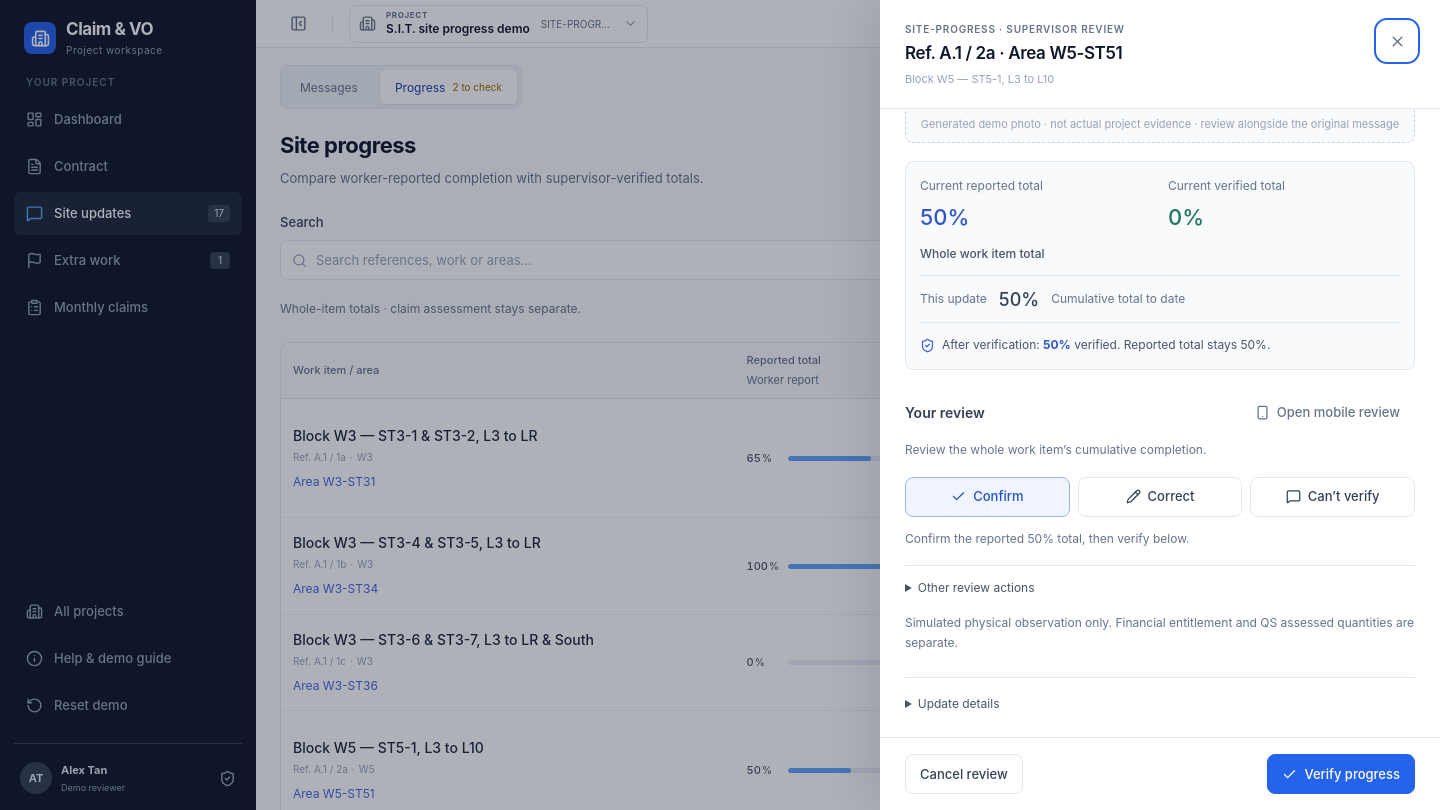
Test: site progress separates worker reports from supervisor verification › requires a reason for an explicit correction and resets the hidden total when returning to Confirm
(page scrolled)
Click the button "Correct": (1160, 496) top-left (1078, 476), bottom-right (1242, 516)
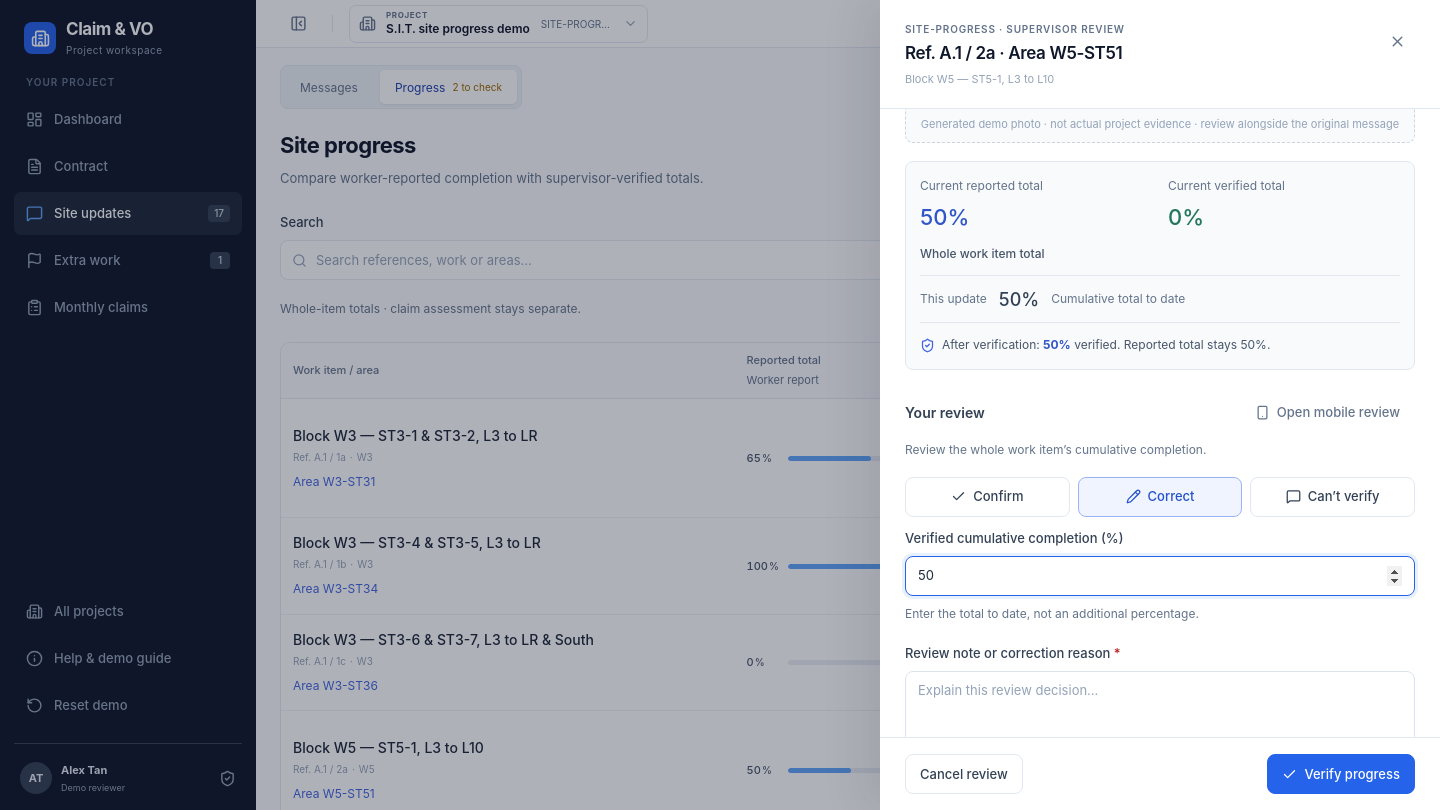
Click the button "Verify progress": (1341, 774) top-left (1267, 754), bottom-right (1415, 794)
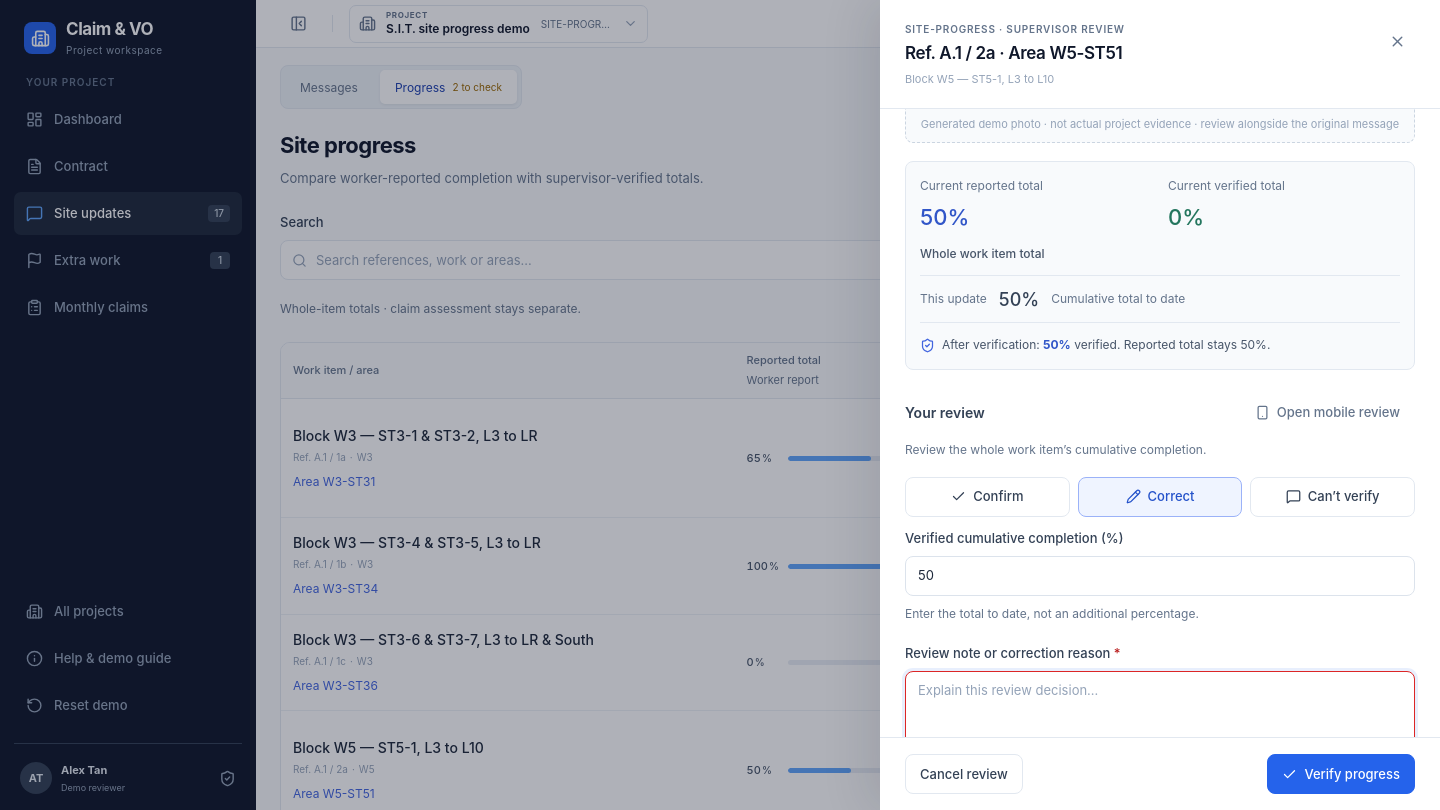
Replace the text in the number field labelled "Verified cumulative completion (%)" with "35": (1160, 576) top-left (905, 556), bottom-right (1415, 596)
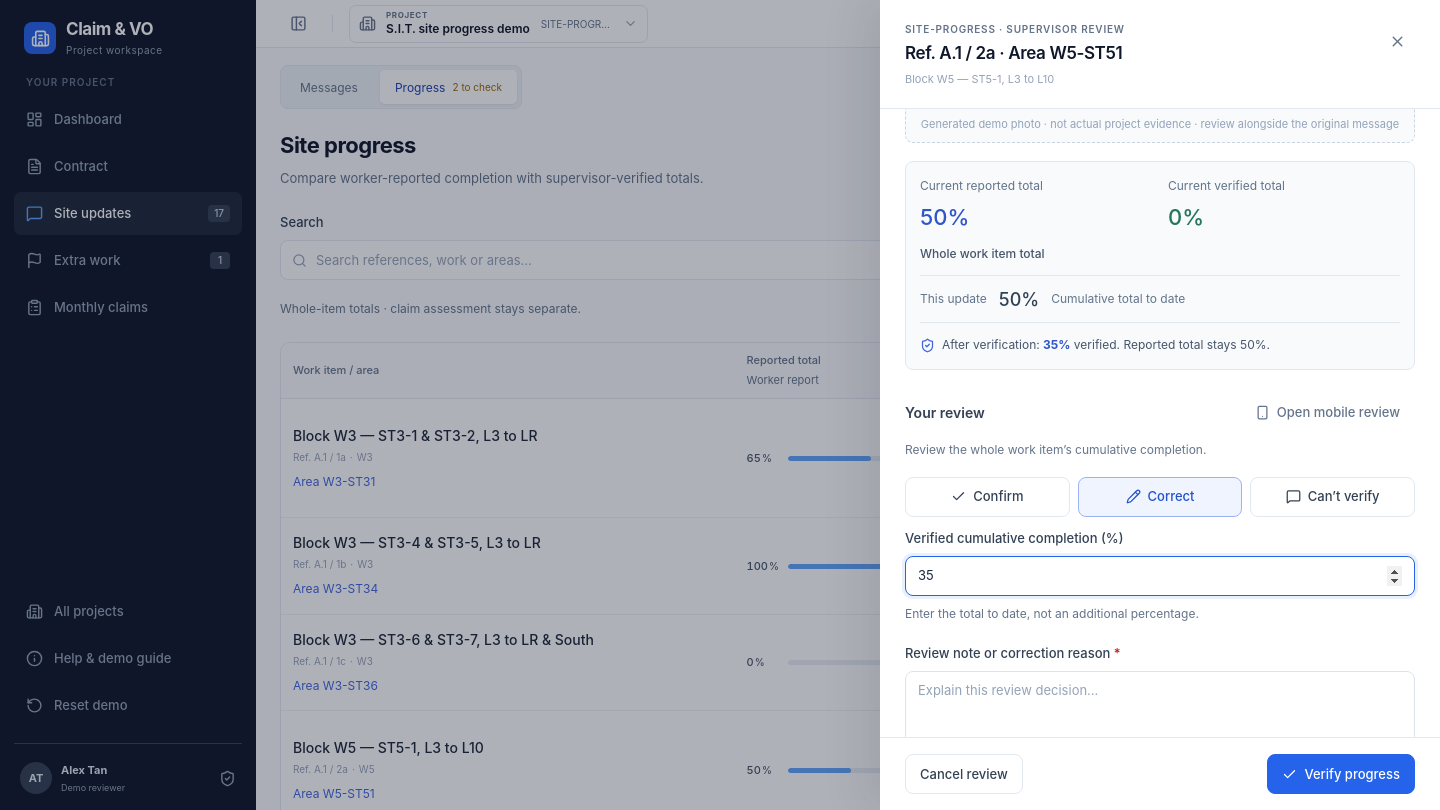
Click the button "Confirm": (987, 496) top-left (905, 476), bottom-right (1070, 516)
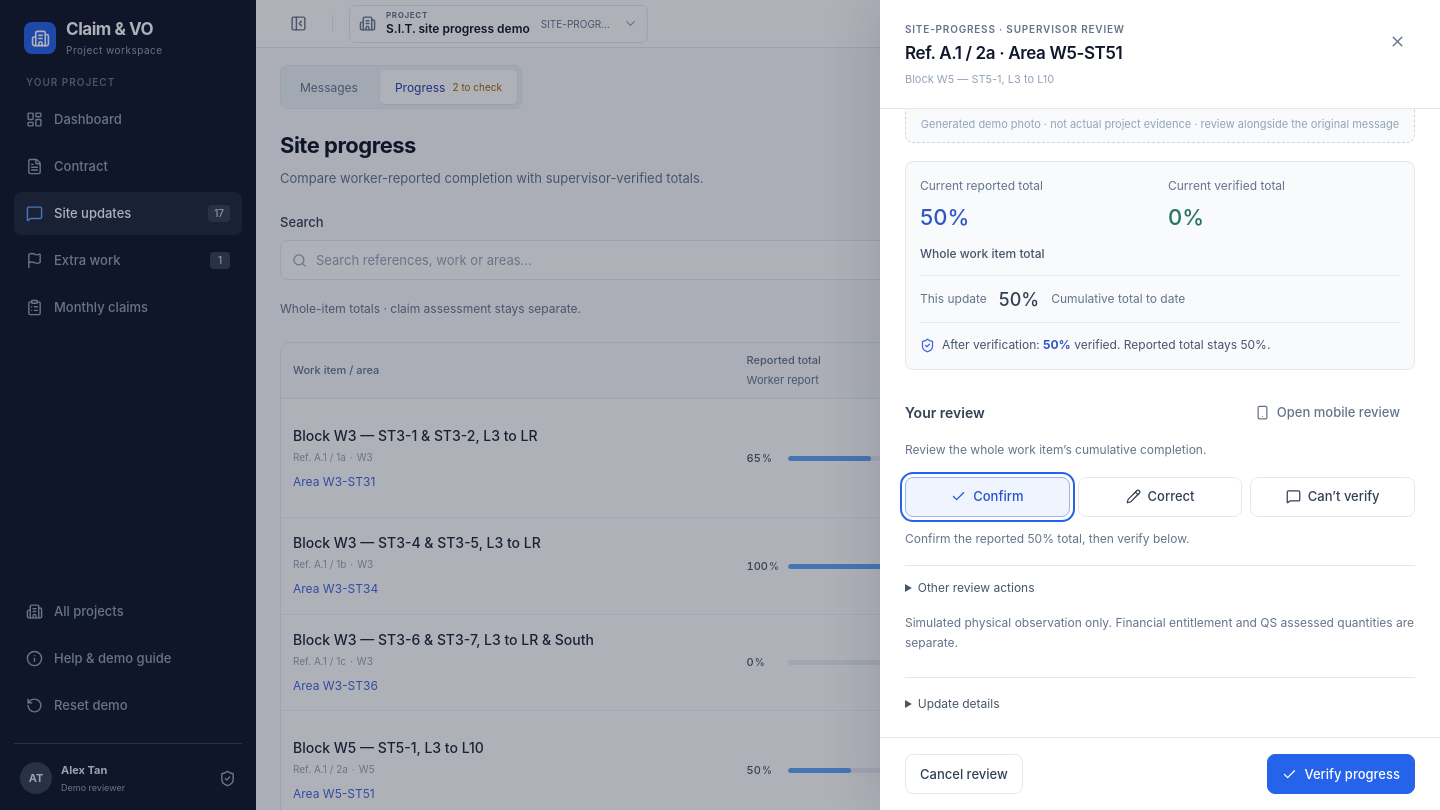
Check: the field labelled "Review note or correction reason" is gone
Click the button "Verify progress": (1341, 774) top-left (1267, 754), bottom-right (1415, 794)
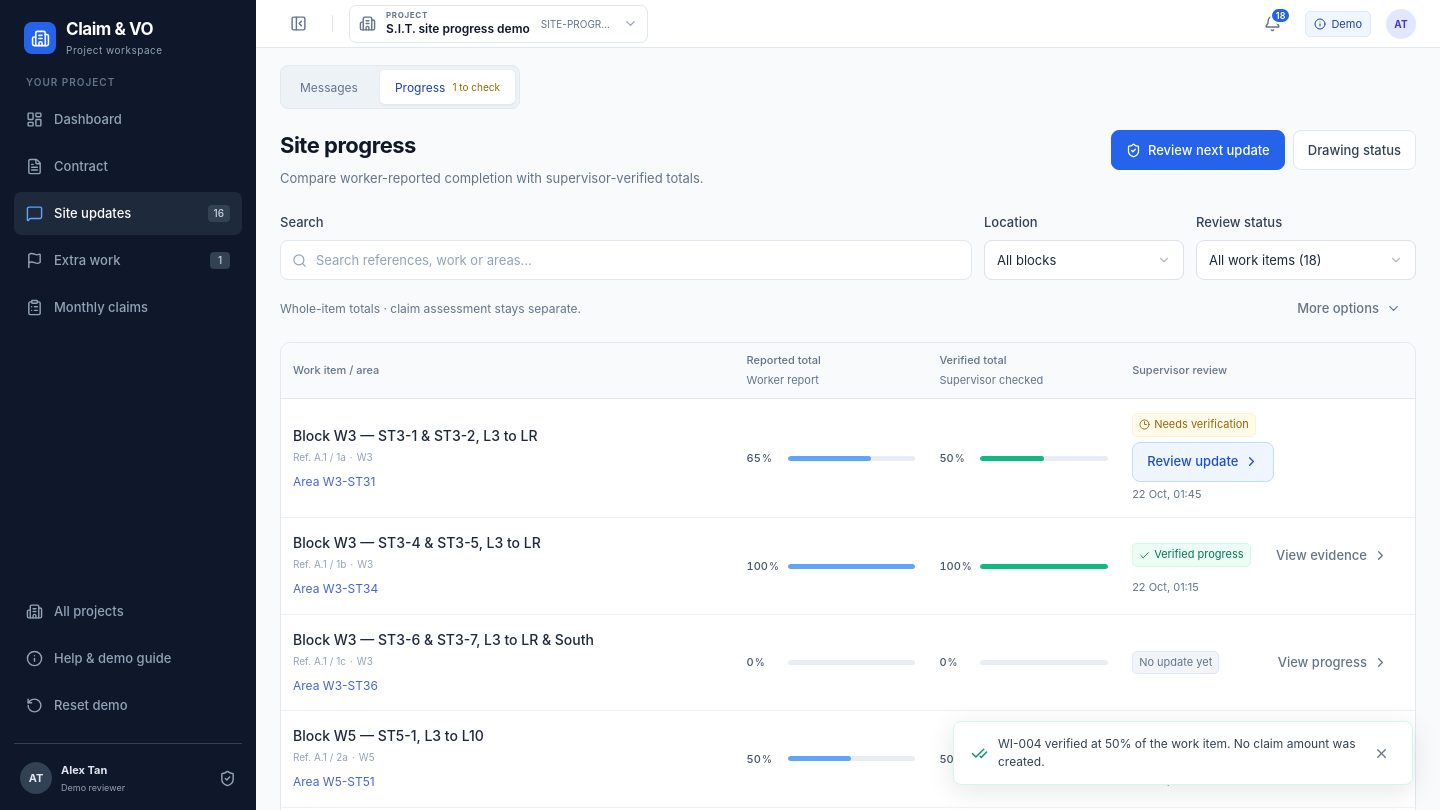
Check: the dialog is gone
